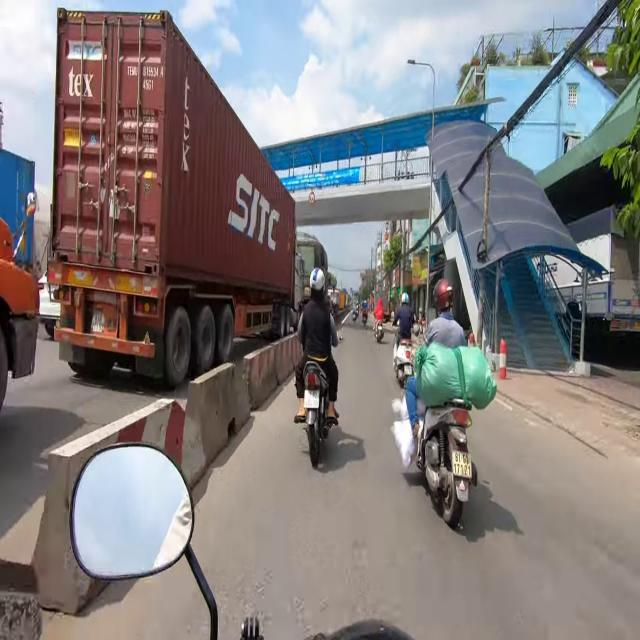bien_trang: (452, 450, 472, 480)
